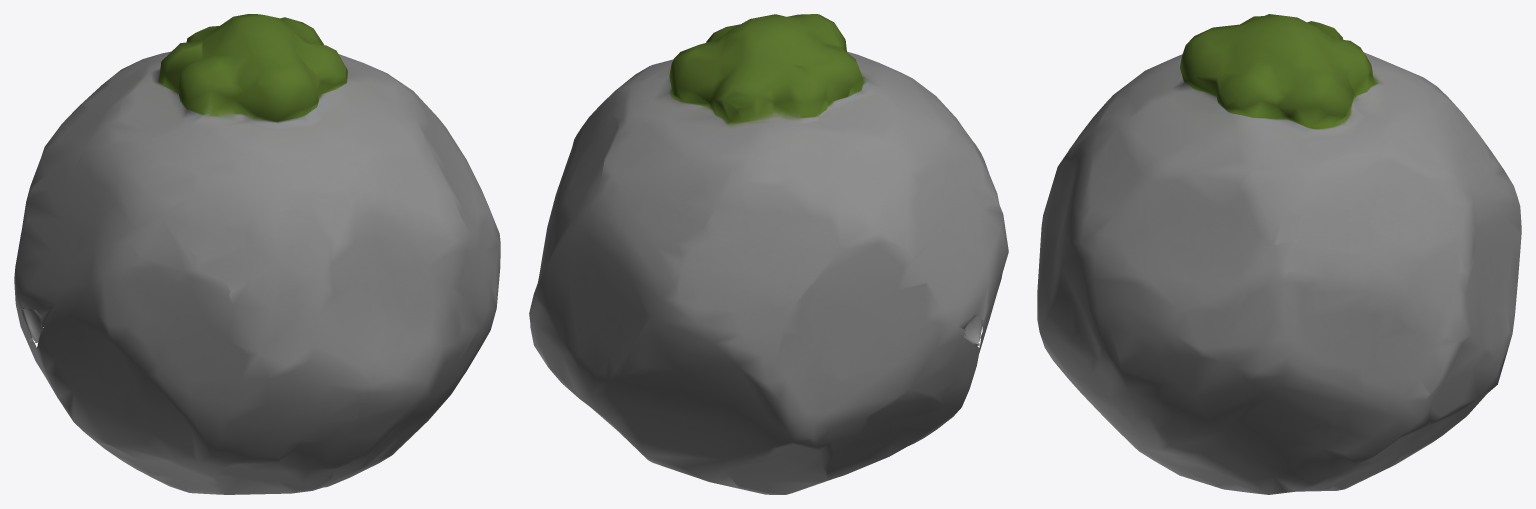
File: rock.glb
3 views of the same model, side by side, from view 1: azimuth 30°, elevation 25°; view 2: azimuth 150°, elevation 25°; view 3: azimuth 270°, elevation 25° (orthographic).
Parts seen in each view (by area): view 1: tripo_node_d5a3815a-b3a9-4465-bb96-92d0d6e9b49a; view 2: tripo_node_d5a3815a-b3a9-4465-bb96-92d0d6e9b49a; view 3: tripo_node_d5a3815a-b3a9-4465-bb96-92d0d6e9b49a.
Part boxes in pixels (left/top/right/bottom): tripo_node_d5a3815a-b3a9-4465-bb96-92d0d6e9b49a: left=14, top=14, right=500, bottom=494; tripo_node_d5a3815a-b3a9-4465-bb96-92d0d6e9b49a: left=529, top=14, right=1008, bottom=494; tripo_node_d5a3815a-b3a9-4465-bb96-92d0d6e9b49a: left=1037, top=14, right=1521, bottom=494.
Size of the model in its own units: 1 by 0.9953 by 0.9747.
1 material, 1 textured.
